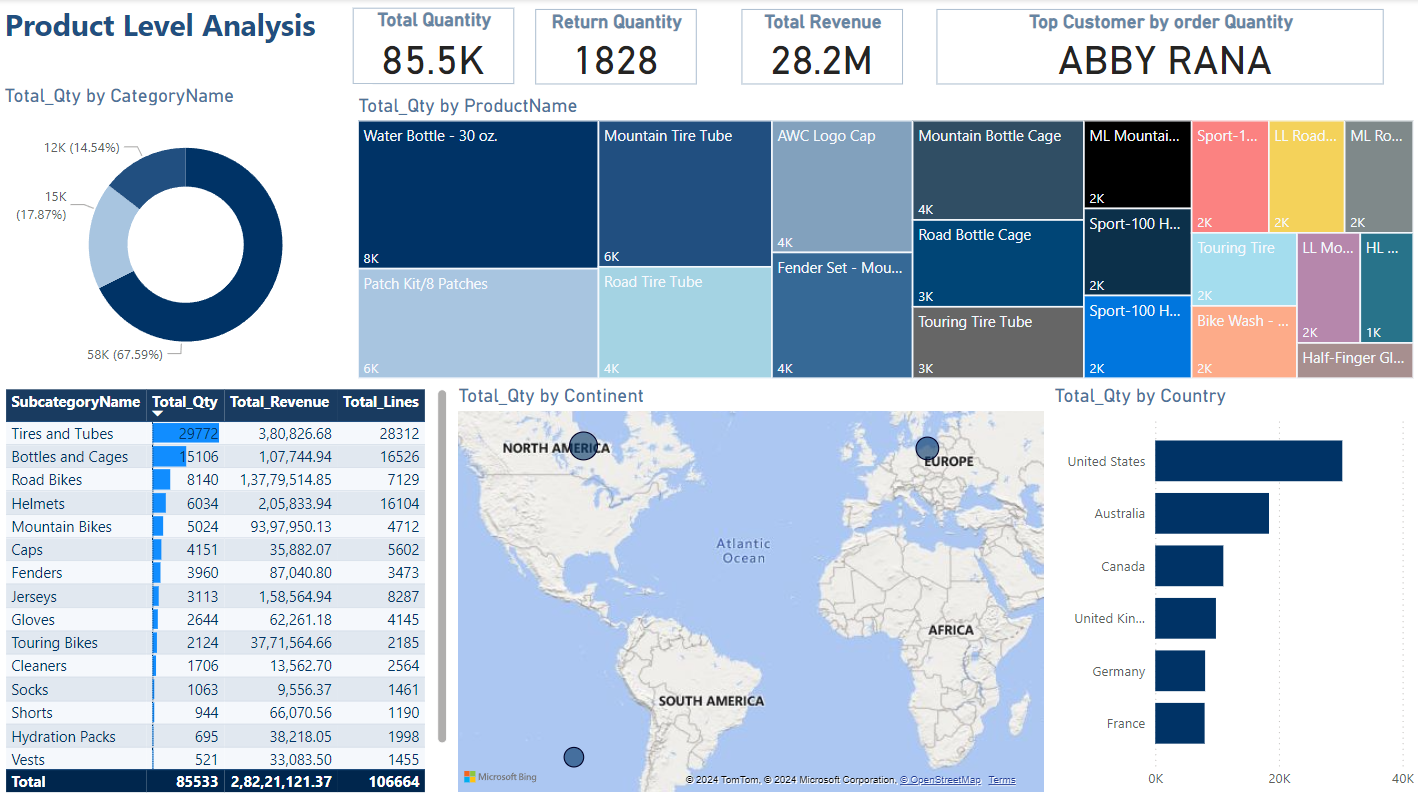

What the dashboard file says about the page in this screenshot:
{"tool":"powerbi","page":{"name":"Product level Analysis","canvas":[1280,720],"ordinal":1},"visuals":[{"type":"textbox","box":[0,0,346,59.7],"z":0},{"type":"card","title":"Return Quantity","fields":{"Values":["AW_Measure's.Return_Qty"]},"box":[483.5,9,145.4,67.6],"z":1000},{"type":"card","title":"Total Quantity","fields":{"Values":["AW_Measure's.Total_Qty"]},"box":[318.9,7.6,145.5,68.5],"z":2000},{"type":"card","title":"Total Revenue","fields":{"Values":["AW_Measure's.Total_Revenue"]},"box":[669.5,9,145.4,67.6],"z":3000},{"type":"card","title":"Top Customer by order Quantity","fields":{"Values":["AW_Customer.Full_Name"]},"box":[845.3,9,403.5,67.6],"z":4000},{"type":"donutChart","fields":{"Category":["Aw_Product_Categories.CategoryName"],"Y":["AW_Measure's.Total_Qty"]},"box":[0,76.2,336.9,271],"z":5000},{"type":"treemap","fields":{"Values":["AW_Measure's.Total_Qty"],"Group":["AW_Products.ProductName"]},"box":[319,85.7,961.4,261.5],"z":6000},{"type":"tableEx","fields":{"Values":["Aw_Product_Subcategories.SubcategoryName","AW_Measure's.Total_Qty","AW_Measure's.Total_Revenue","AW_Measure's.Total_Lines"]},"box":[0,347.2,409.1,373.1],"z":7000},{"type":"clusteredBarChart","fields":{"Y":["AW_Measure's.Total_Qty"],"Category":["AW_Territories.Country"]},"box":[946.3,347.2,334,373.5],"z":8000},{"type":"map","fields":{"Size":["AW_Measure's.Total_Qty"],"Category":["AW_Territories.Continent"]},"box":[408.7,347.2,537.6,373.5],"z":9000}]}

Visuals, with their boxes in screenshot pixels (x1, y1, x2, y2), scaled from the page's 1280x720 canvas onto the 1418x795 screenshot:
textbox: x1=0 y1=0 x2=383 y2=66
"Return Quantity" card: x1=536 y1=10 x2=697 y2=85
"Total Quantity" card: x1=353 y1=8 x2=514 y2=84
"Total Revenue" card: x1=742 y1=10 x2=903 y2=85
"Top Customer by order Quantity" card: x1=936 y1=10 x2=1383 y2=85
donutChart - Aw_Product_Categories.CategoryName x AW_Measure's.Total_Qty: x1=0 y1=84 x2=373 y2=383
treemap - AW_Measure's.Total_Qty x AW_Products.ProductName: x1=353 y1=95 x2=1417 y2=383
tableEx - Aw_Product_Subcategories.SubcategoryName x AW_Measure's.Total_Qty: x1=0 y1=383 x2=453 y2=794
clusteredBarChart - AW_Measure's.Total_Qty x AW_Territories.Country: x1=1048 y1=383 x2=1417 y2=794
map - AW_Measure's.Total_Qty x AW_Territories.Continent: x1=453 y1=383 x2=1048 y2=794
